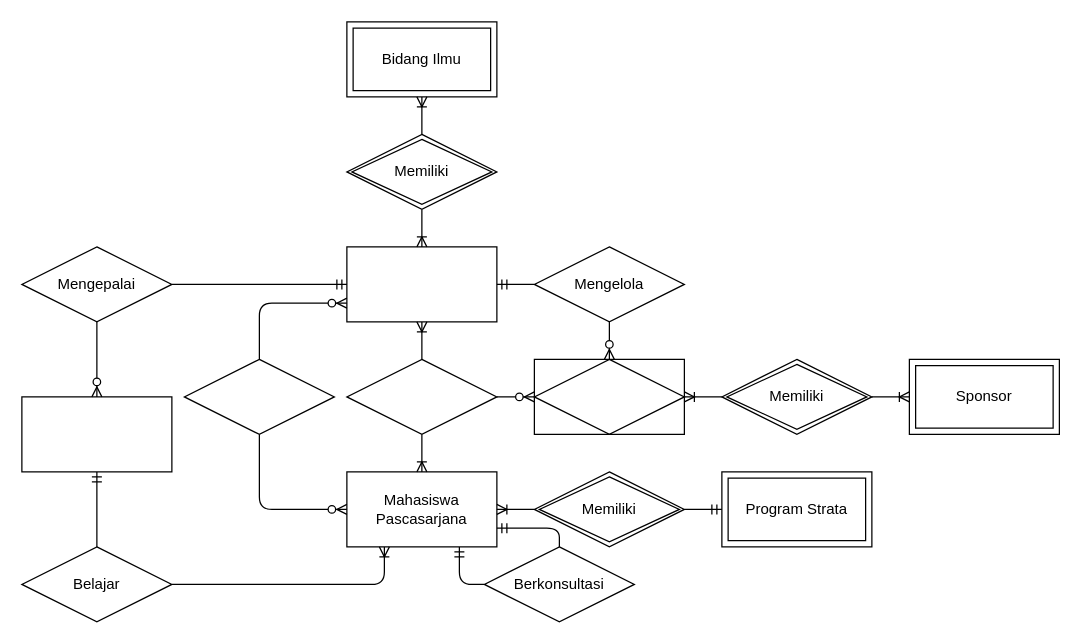
This 1081x644 diagram has some shape labels left out. Here are the shapes that lost their labels. From the top down, the box of each, then its label:
(346, 246, 497, 322): Profesor
(183, 358, 334, 434): Mensupervisi
(346, 358, 497, 434): Mengerjakan
(533, 358, 684, 434): Proyek penelitian
(21, 396, 172, 472): Departemen
